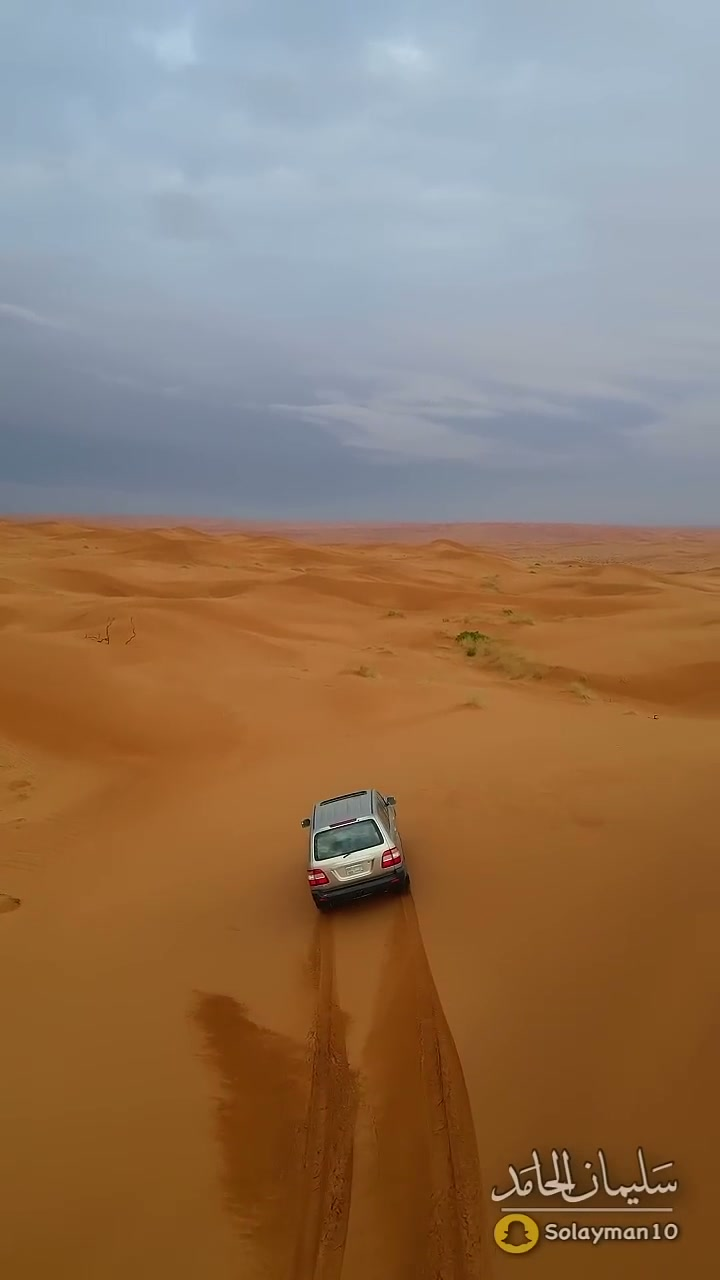vehicle_track: (364, 899, 488, 1279), (291, 919, 356, 1279)
